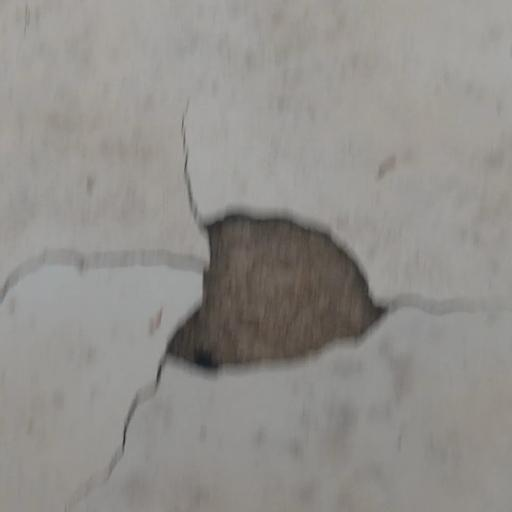peeling: (4, 94, 512, 480)
